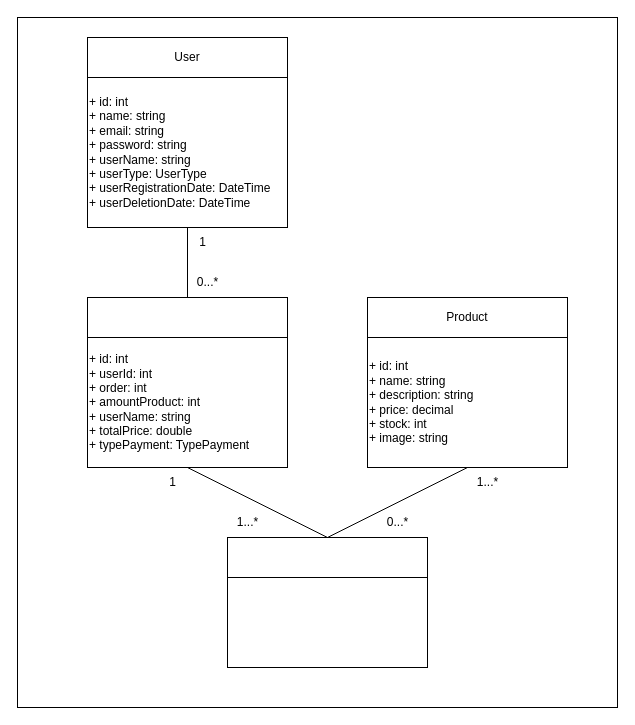
This 635x725 diagram has some shape labels left out. The shapes that lost their labels are listed below. From the top down, each one's centre as x and y in pixels, then its label:
At (x=187, y=317): "Cart".
At (x=327, y=557): "CartProduct".
At (x=327, y=622): "+ id: int + cartId: int + productId: int + quantity: int".
